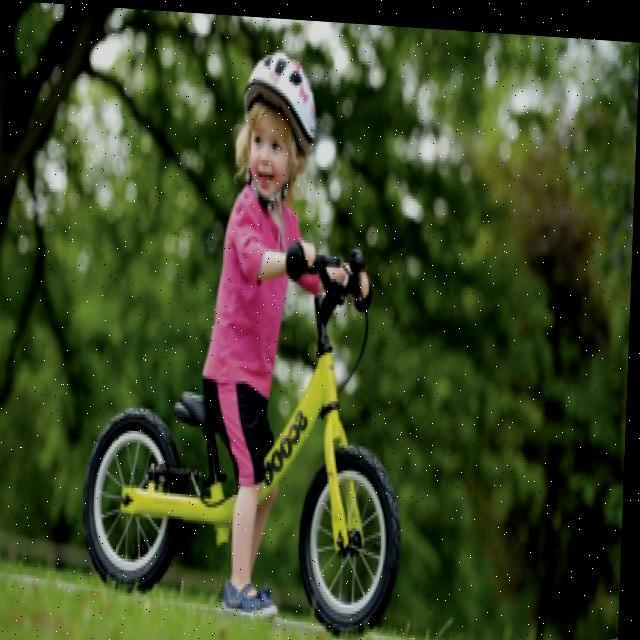Helmet: (212, 46, 332, 200)
